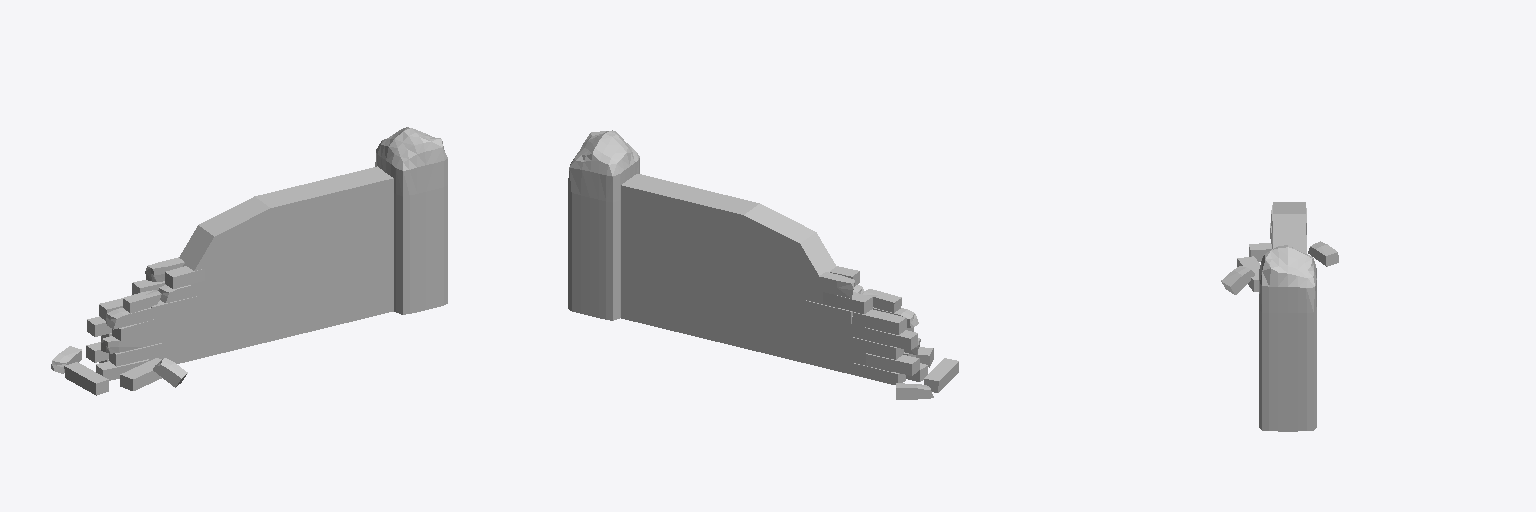
File: SM_BrokenWall_01.obj
The picture shows the model from 3 angles: view 1: azimuth 30°, elevation 25°; view 2: azimuth 150°, elevation 25°; view 3: azimuth 270°, elevation 25°; orthographic projection.
Visible parts, largest first — view 1: pCube44; view 2: pCube44; view 3: pCube44.
Boxes of the visible parts, x1=… form: pCube44: x1=51, y1=127, x2=447, y2=395; pCube44: x1=568, y1=130, x2=958, y2=399; pCube44: x1=1221, y1=202, x2=1338, y2=431.
Size of the model in its own units: 446 by 199 by 123.